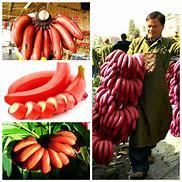banana: (85, 54, 143, 154), (3, 65, 92, 120), (7, 12, 73, 54), (18, 132, 69, 168)
